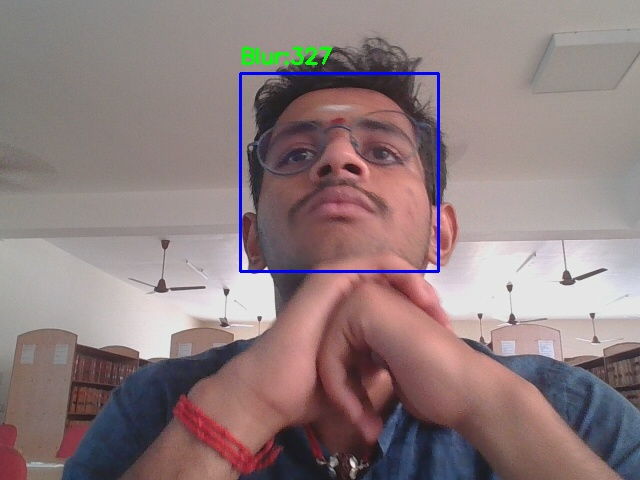real: (240, 73, 438, 271)
